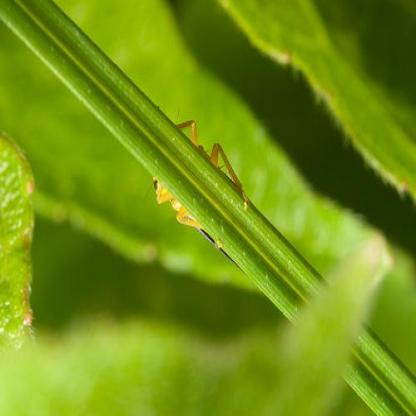Green-Leafhopper: (138, 102, 263, 278)
